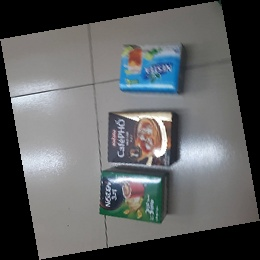CF pho: (107, 109, 182, 167)
Nes Rang: (97, 168, 170, 225)
Nestea: (118, 42, 189, 95)
